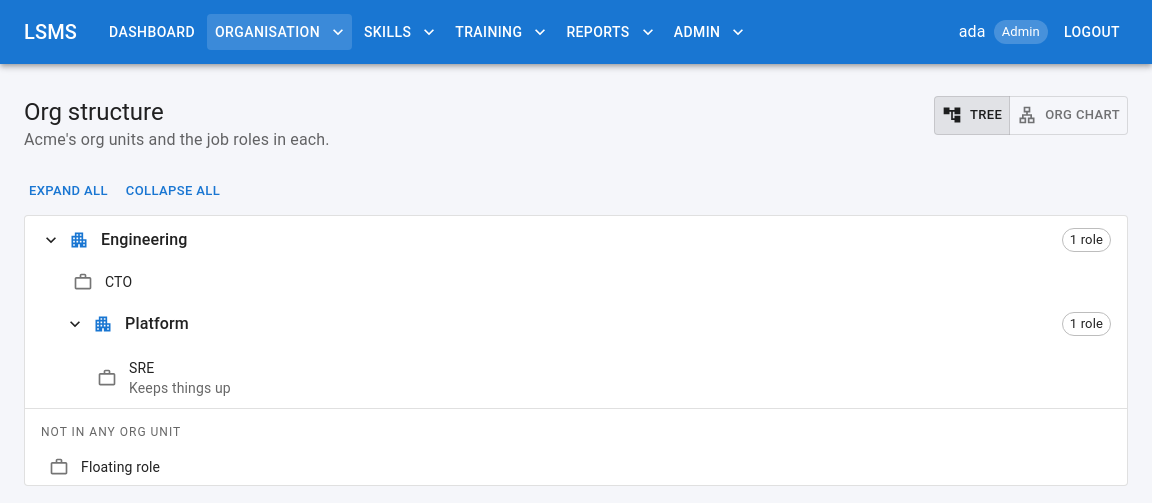
Test: tenant admins see the org structure as a tree and can switch to an org chart
Expected: the text "SRE" is shown, [129,360,154,376]
Expected: the text "Floating role" is shown, [81,459,160,475]
What coordinates should you click on to do the following:
click the button "Collapse all"
I would click on:
 (173, 191)
Its box is [121,176,225,207].
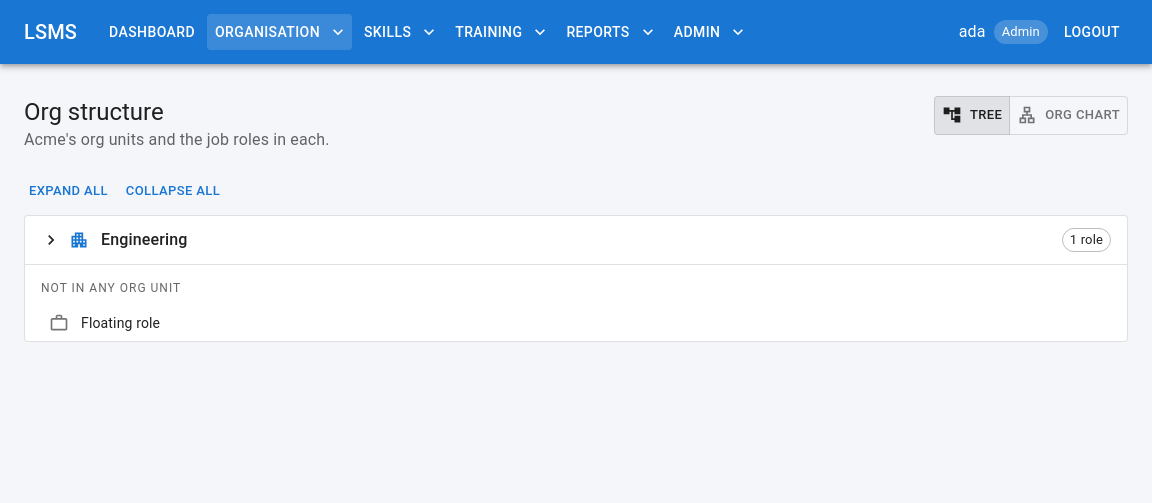
Expected: the button "Platform" is gone
What coordinates should you click on to do the following:
click the button with aria-label "Org chart view"
I would click on:
 (1069, 115)
Its box is [1009,96,1128,135].
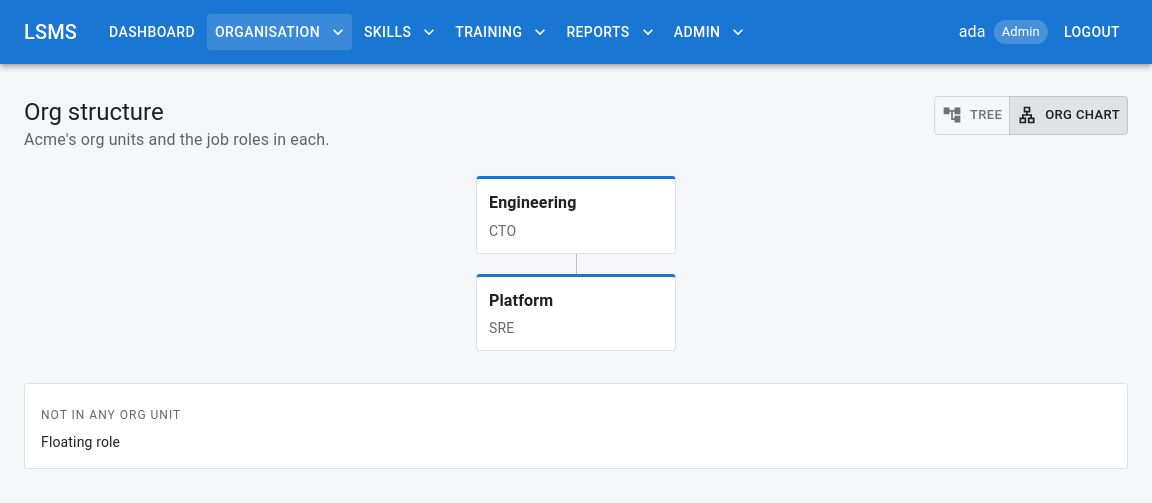
Expected: the text "Platform" is shown, [489,291,553,310]
Expected: the text "CTO" is shown, [489,223,516,239]
